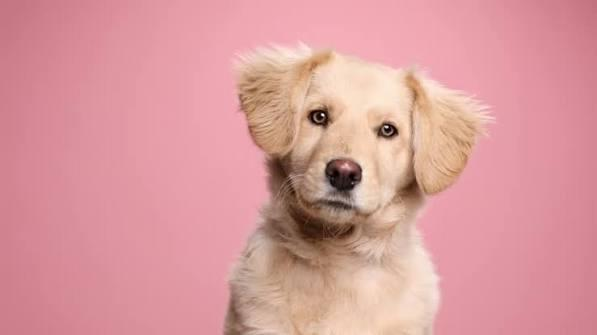puppy-dog: (220, 44, 494, 335)
